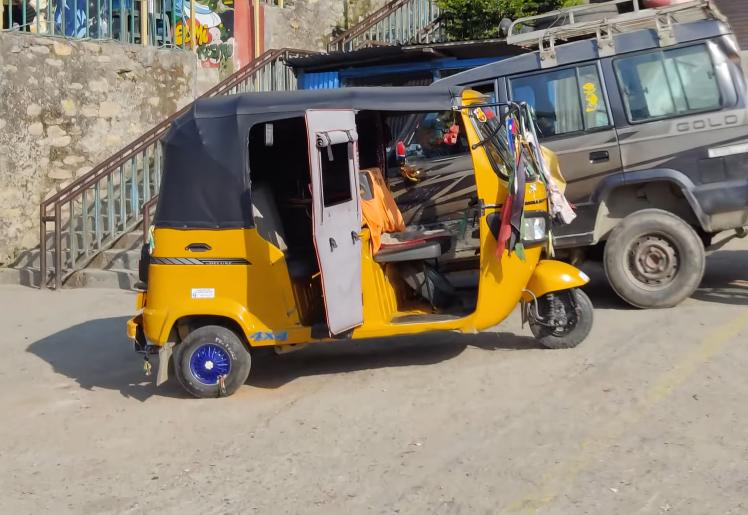SUV: (384, 0, 748, 311)
auto_rickshaw: (126, 74, 598, 404)
